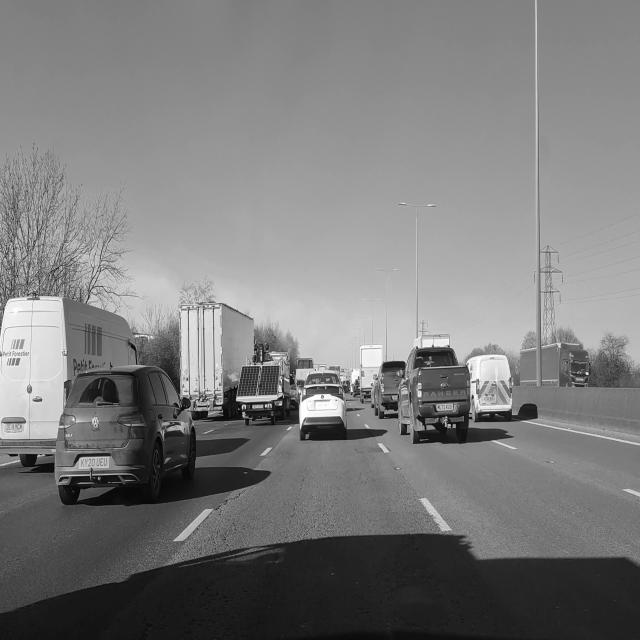car: (55, 366, 196, 504), (393, 337, 473, 451), (299, 372, 346, 440), (373, 361, 405, 418)
